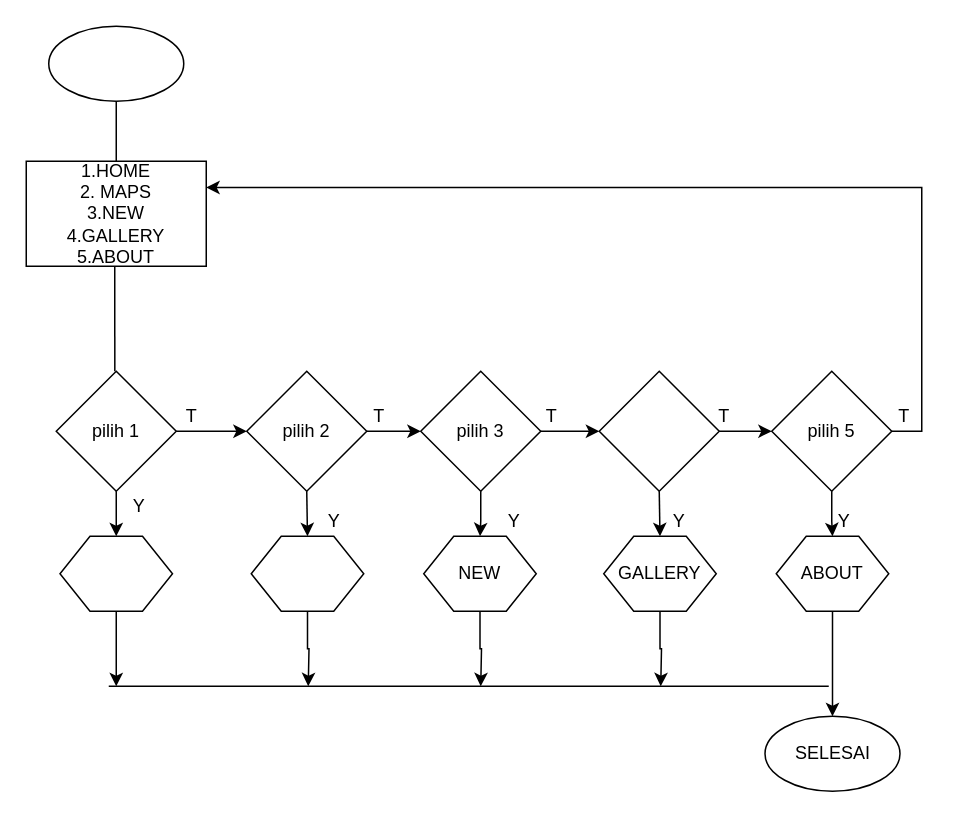
Image size: 960x818. Some labels were removed from this diagram. The shapes that lost their labels are listed below. From the top down, each one's box as (x1, y1, x2, y2) in pixels, then its label:
(47, 25, 184, 101): MULAI
(598, 370, 719, 491): pilih 4
(58, 535, 172, 611): HOME
(250, 535, 364, 611): MAPS
